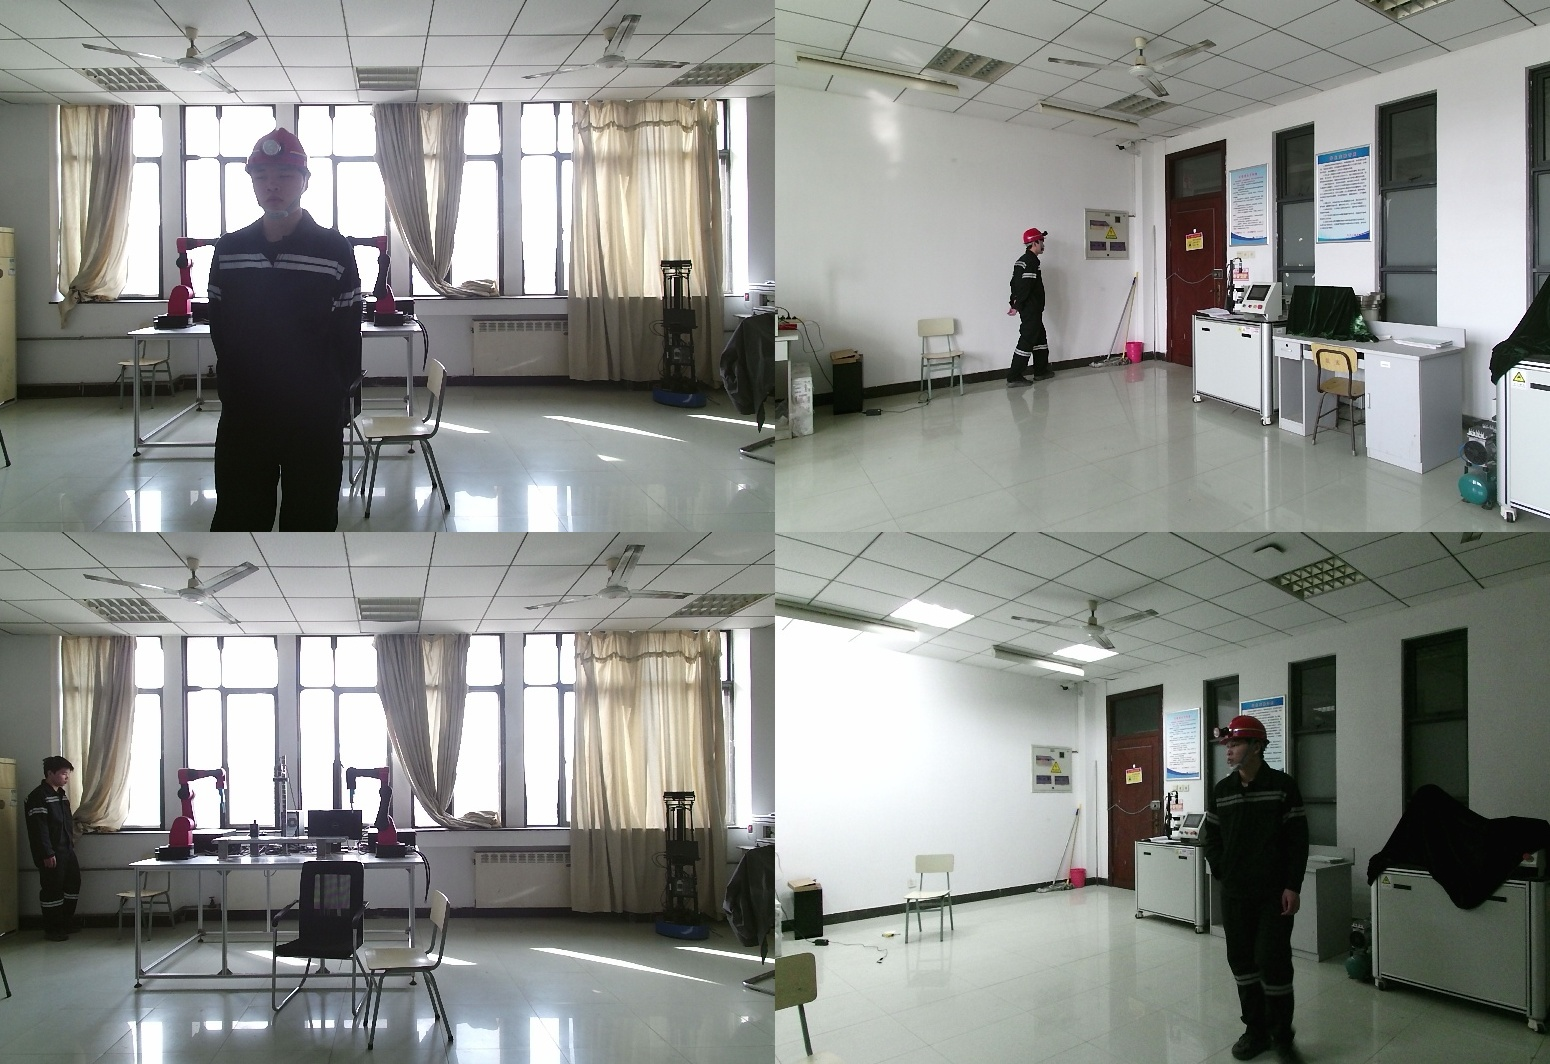person: (206, 128, 359, 532), (1198, 714, 1332, 1064), (18, 756, 81, 943), (1007, 232, 1054, 391)
